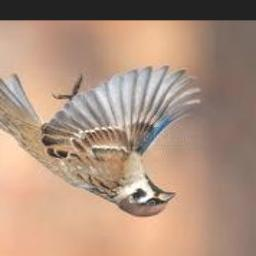Sparrow: (0, 66, 200, 217)
